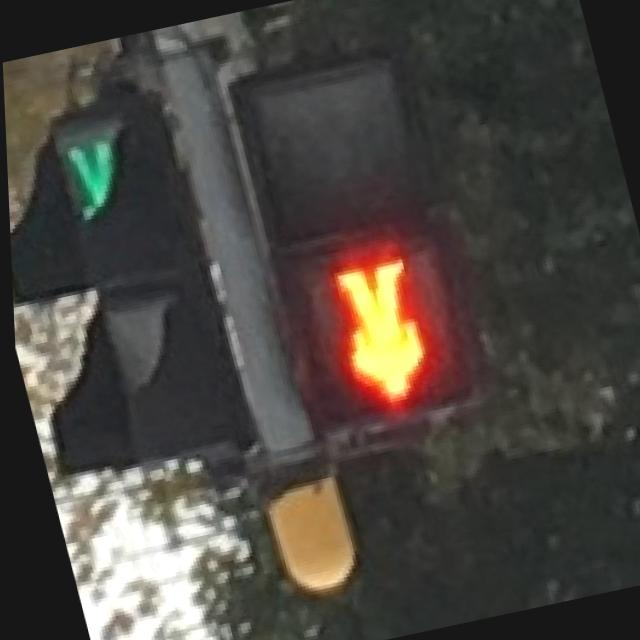red_light: (293, 240, 457, 432)
